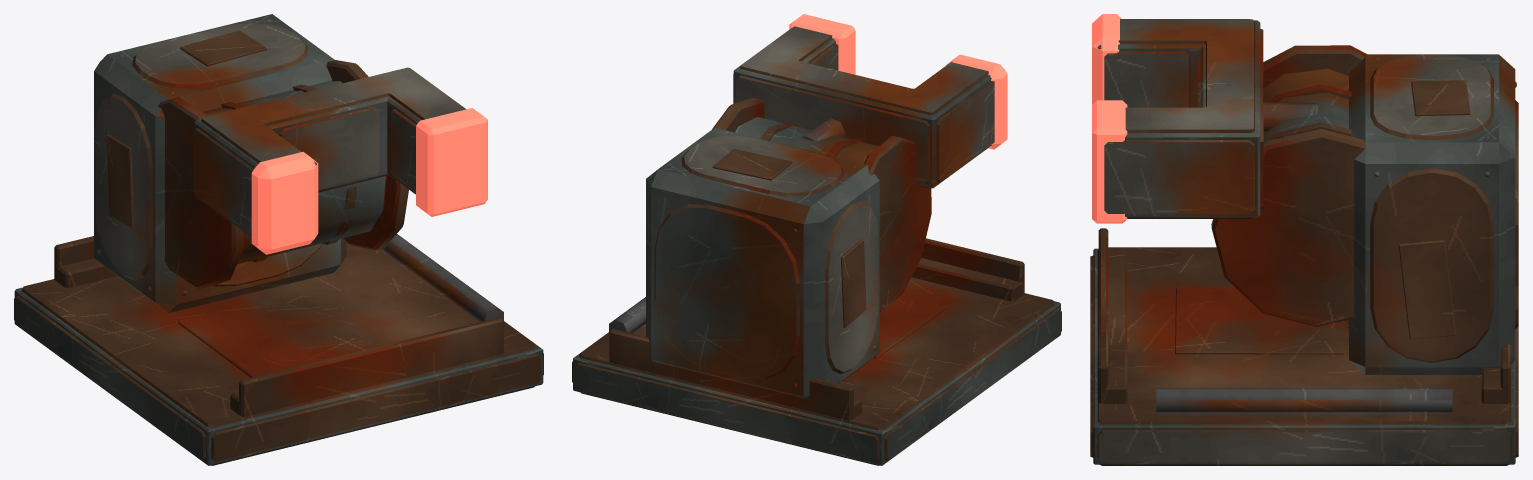
The model's file is R4X_MagneticGrapple.glb.
3 renders of one model, left to right at view 1: azimuth 30°, elevation 25°; view 2: azimuth 150°, elevation 25°; view 3: azimuth 270°, elevation 25°, orthographic. The views are drawn at different scales.
Visible parts, largest first — view 1: R4X_MagneticGrapple_Body; view 2: R4X_MagneticGrapple_Body; view 3: R4X_MagneticGrapple_Body.
Boxes of the visible parts, bbox=[...] form: R4X_MagneticGrapple_Body: bbox=[14, 14, 543, 465]; R4X_MagneticGrapple_Body: bbox=[572, 14, 1061, 465]; R4X_MagneticGrapple_Body: bbox=[1090, 14, 1518, 465].
Bounding box in the file's own units: 0.52 × 0.414 × 0.52.
5 materials, 4 textured.
